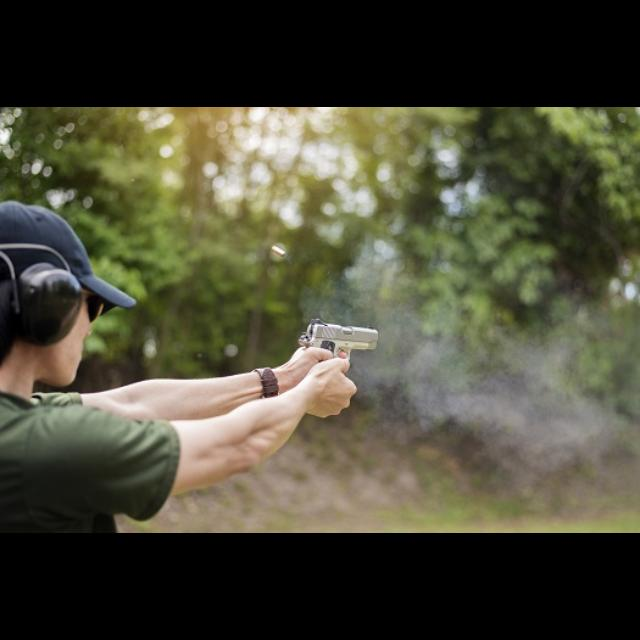handgun: (297, 315, 381, 381)
